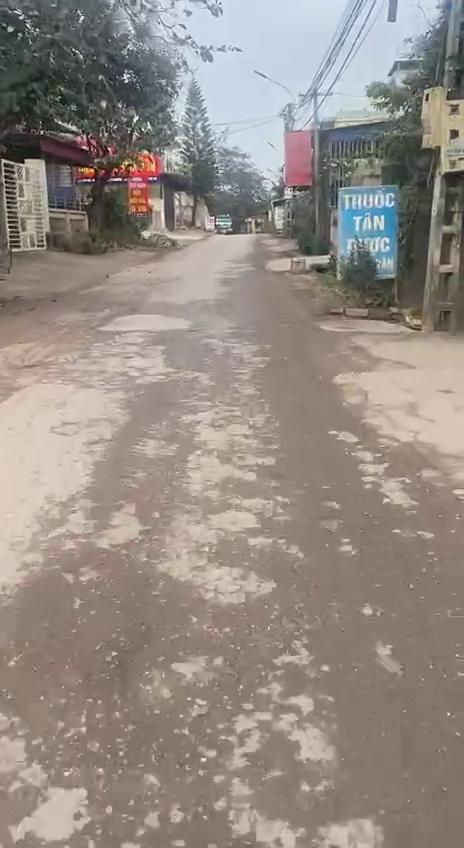pothole: (0, 542, 289, 848)
